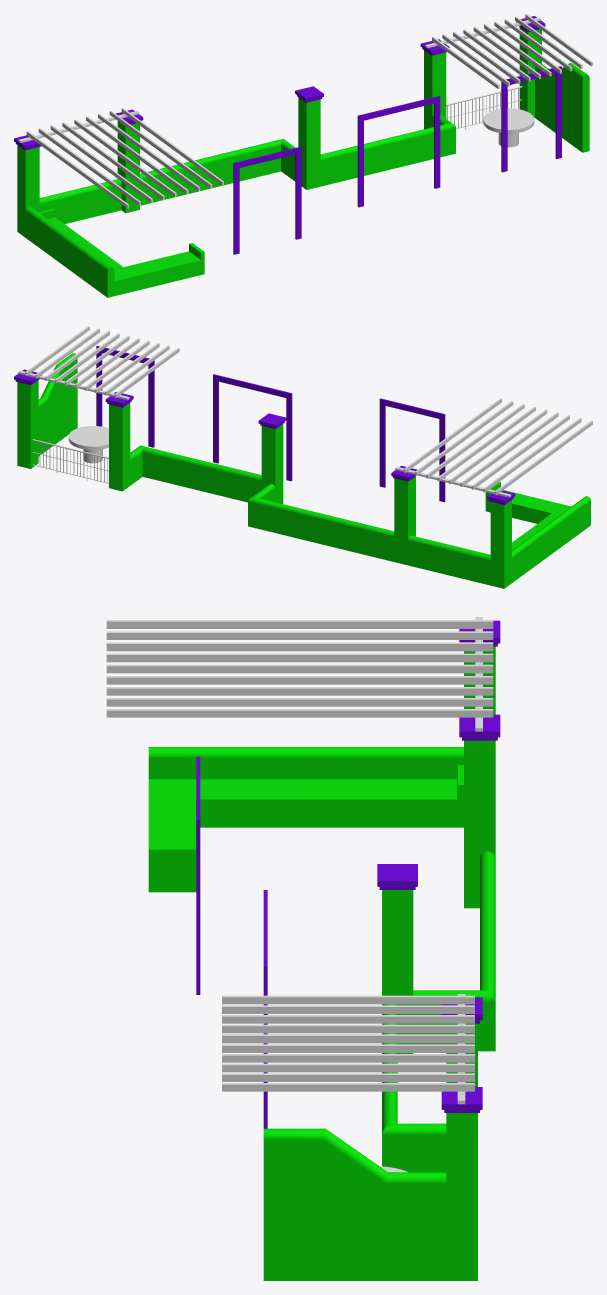
File: Terrace.fbx
The picture shows the model from 3 angles, top to bottom: view 1: azimuth 30°, elevation 25°; view 2: azimuth 150°, elevation 25°; view 3: azimuth 270°, elevation 25°; orthographic projection. The views are drawn at different scales.
Visible parts, largest first — view 1: TerraceRail, BeamRight, OutsideBorders, BeamLeft, TerraceSofa, TerracePillar03, TerracePillar01, TerracePillar04, TerracePillar02, TableTop1, TerracePillar05, RailsVerticalTerrace; view 2: TerraceRail, BeamRight, OutsideBorders, BeamLeft, TerracePillar01, TerracePillar04, TerracePillar05, TerracePillar02, TerracePillar03, TerraceSofa, TableTop1, RailsVerticalTerrace (+1 smaller); view 3: TerraceRail, BeamRight, BeamLeft, TerraceSofa, TerracePillar05, TerracePillar02, TerracePillar03, OutsideBorders, TerracePillar01.
Part boxes in pixels (x1,y1,x2,y2): TerraceRail: [25, 62, 589, 297]; BeamRight: [18, 108, 223, 208]; OutsideBorders: [233, 66, 561, 254]; BeamLeft: [425, 14, 592, 88]; TerraceSofa: [38, 208, 204, 295]; TerracePillar03: [295, 86, 323, 189]; TerracePillar01: [14, 135, 41, 237]; TerracePillar04: [420, 39, 449, 129]; TerracePillar02: [116, 109, 143, 212]; TableTop1: [483, 108, 534, 147]; TerracePillar05: [516, 16, 545, 117]; RailsVerticalTerrace: [447, 88, 518, 129]; TerraceRail: [38, 353, 590, 585]; BeamRight: [395, 398, 592, 497]; OutsideBorders: [96, 345, 445, 502]; BeamLeft: [18, 326, 179, 400]; TerracePillar01: [487, 490, 515, 588]; TerracePillar04: [105, 392, 133, 491]; TerracePillar05: [14, 369, 41, 468]; TerracePillar02: [391, 465, 417, 565]; TerracePillar03: [258, 413, 286, 503]; TerraceSofa: [485, 482, 571, 549]; TableTop1: [68, 426, 108, 463]; RailsVerticalTerrace: [36, 442, 107, 482]; TerraceRail: [148, 747, 495, 1280]; BeamRight: [106, 617, 493, 731]; BeamLeft: [222, 994, 474, 1104]; TerraceSofa: [148, 765, 463, 892]; TerracePillar05: [441, 1087, 482, 1280]; TerracePillar02: [459, 714, 500, 908]; TerracePillar03: [377, 864, 417, 1053]; OutsideBorders: [196, 756, 267, 1128]; TerracePillar01: [459, 620, 500, 714].
Size of the model in its own units: 1458 by 267 by 501.
